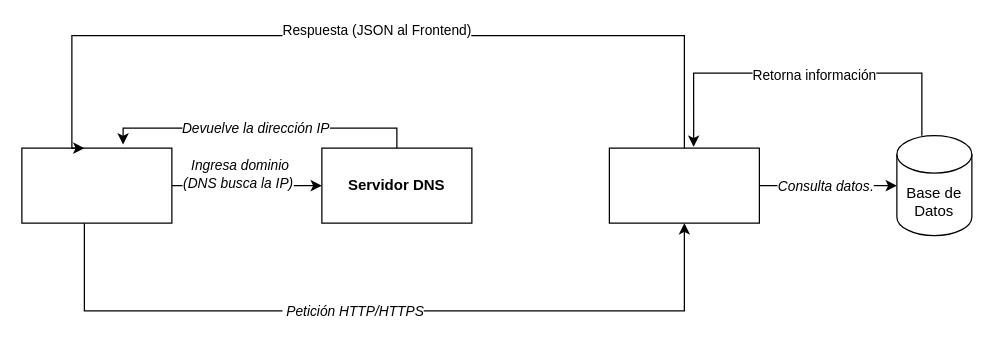
The diagram is 994 pixels wide and 343 high, and some of its shapes have lost their labels. The centre of each missing label's shape, as x and y in pixels:
Cliente / Navegador: point 96,185
Servidor VPS / Backend (API): point 683,185
